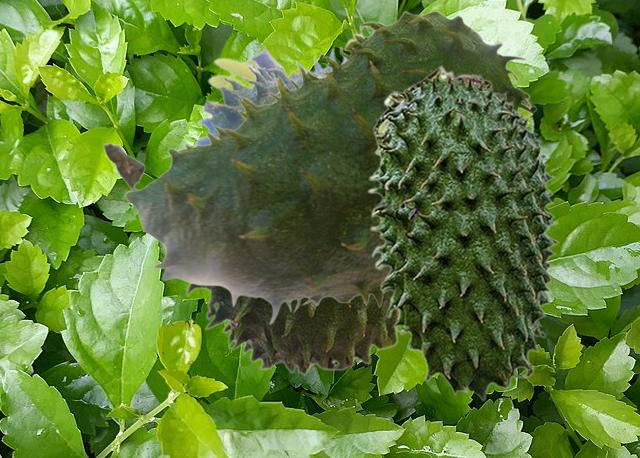guyabano: (102, 10, 536, 324), (183, 44, 399, 376), (367, 64, 559, 400)
